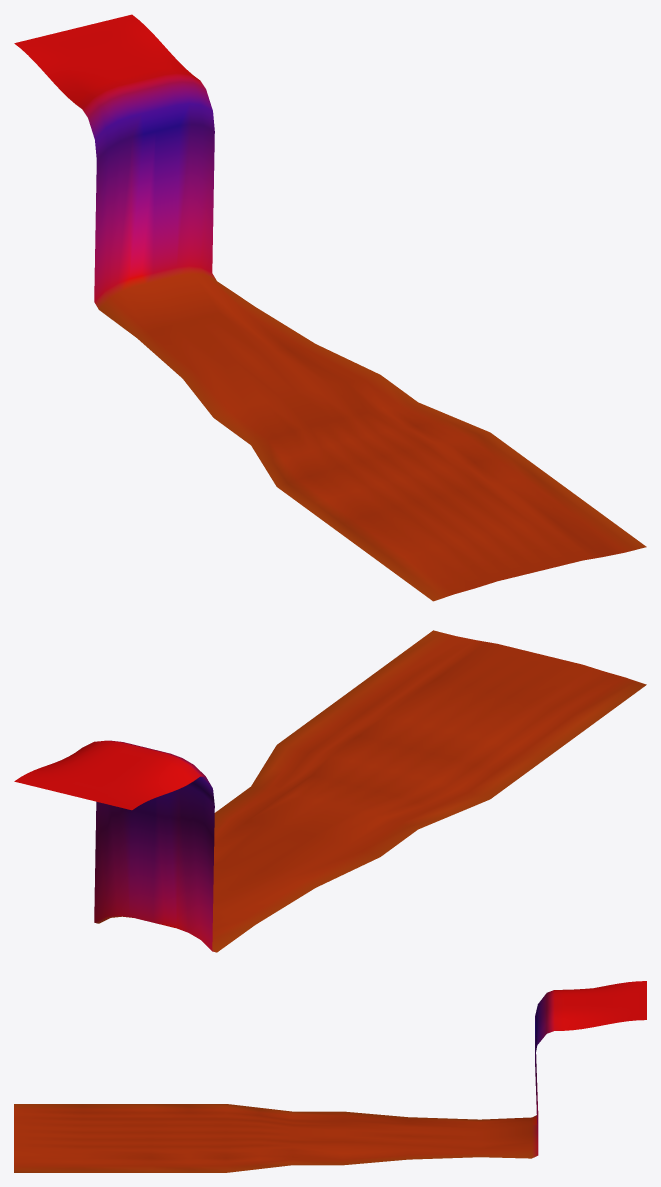
Rendered from MywaterFallC.fbx.
3 views of the same model, one above another, from view 1: azimuth 30°, elevation 25°; view 2: azimuth 150°, elevation 25°; view 3: azimuth 270°, elevation 25° (orthographic). The views are drawn at different scales.
Parts seen in each view (by area): view 1: pPlane1; view 2: pPlane1; view 3: pPlane1.
Part boxes in pixels (left/top/right/bottom): pPlane1: left=14, top=14, right=646, bottom=601; pPlane1: left=14, top=630, right=646, bottom=952; pPlane1: left=14, top=981, right=646, bottom=1172.
Bounding box in the file's own units: 1.81 × 1.66 × 6.85.
